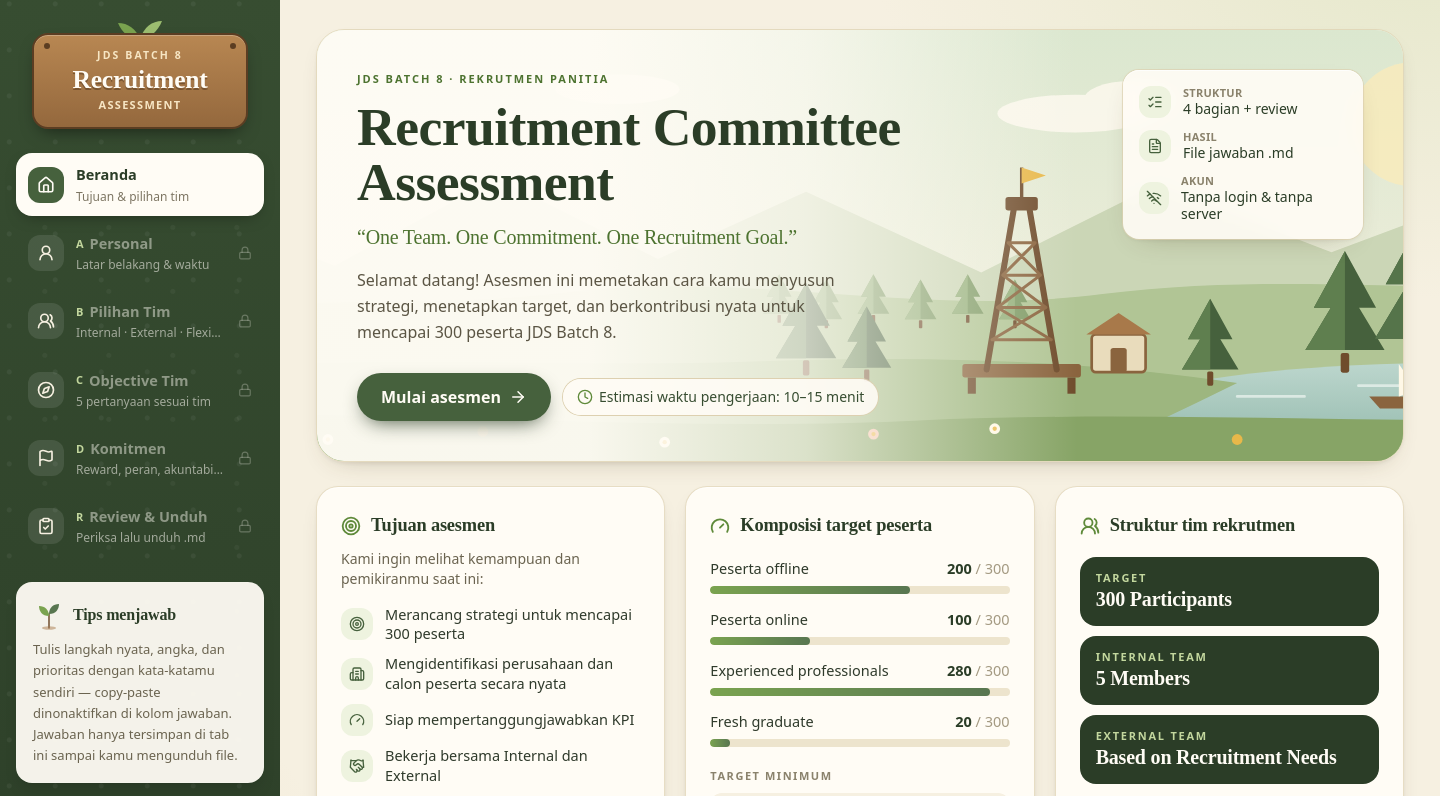
it: assessment flow › blocks Next and lists errors when required fields are empty
Click the button "Mulai asesmen": click(454, 397) [357,373,551,421]
(page scrolled)
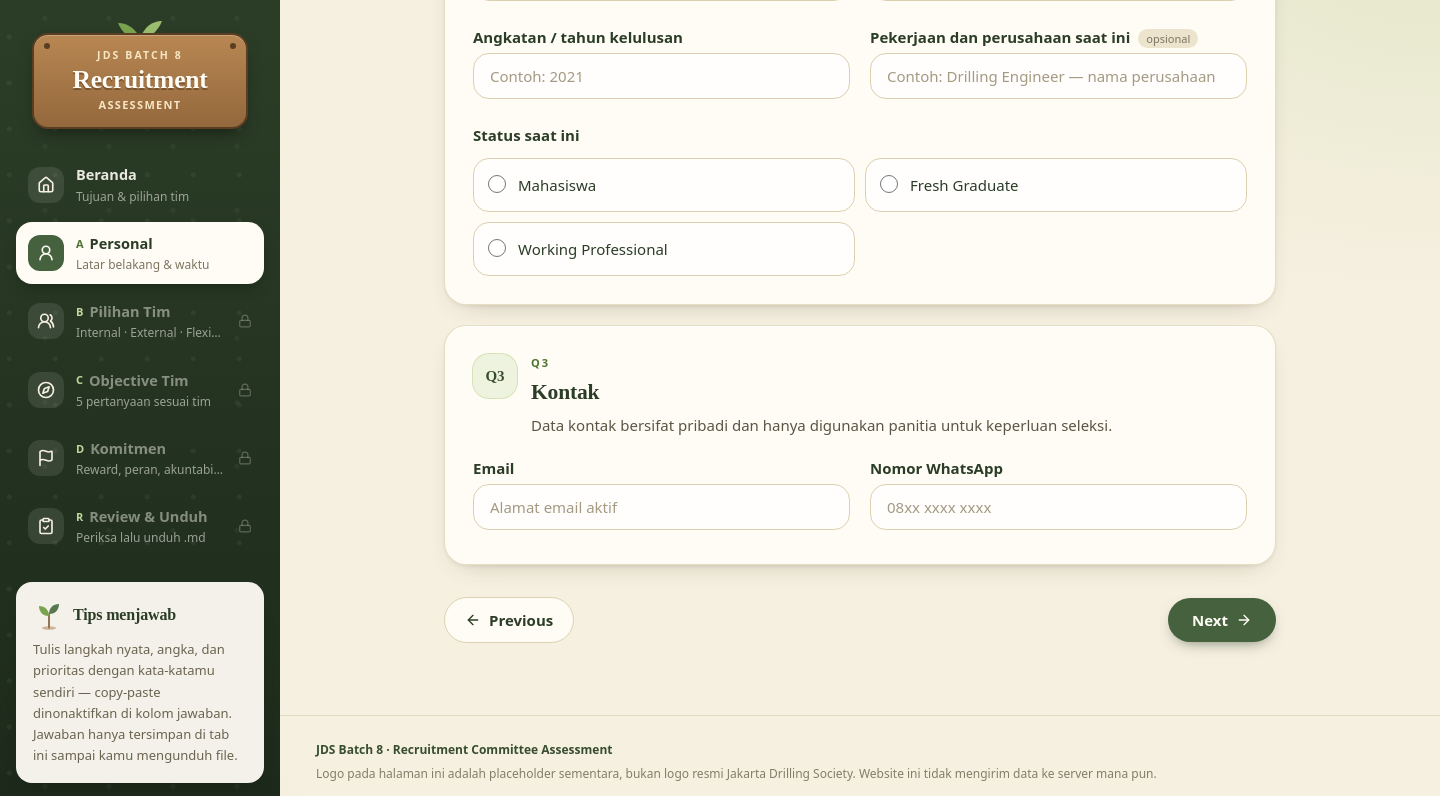
Click the button "Next": click(1222, 620) [1168,598,1276,642]
(page scrolled)
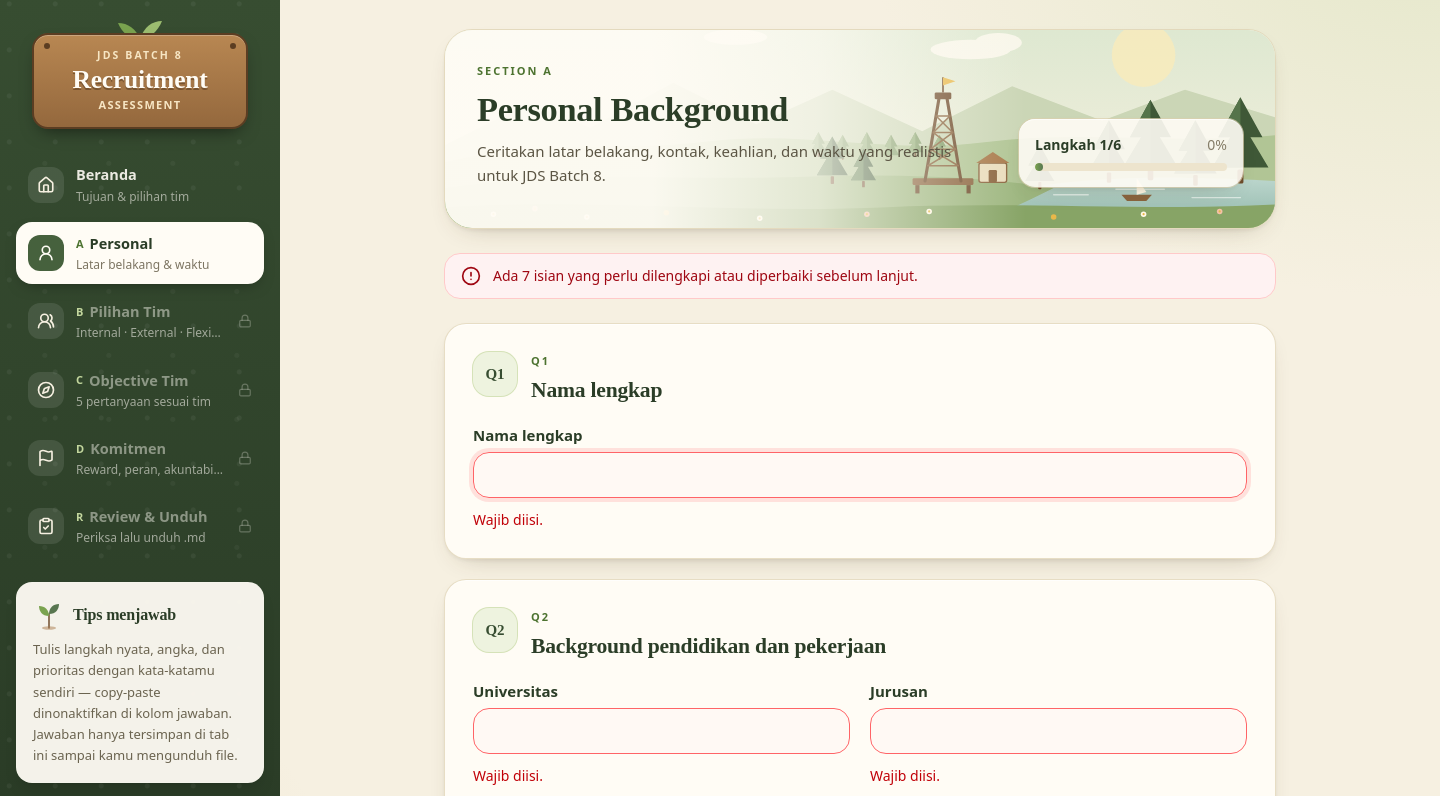
Expected: the heading "Personal Background" is shown, [477,90,788,128]
Now the text "Ada 7 isian yang perlu dilengkapi atau diperbaiki sebelum lanjut." is shown, box [444,253,1276,299]
